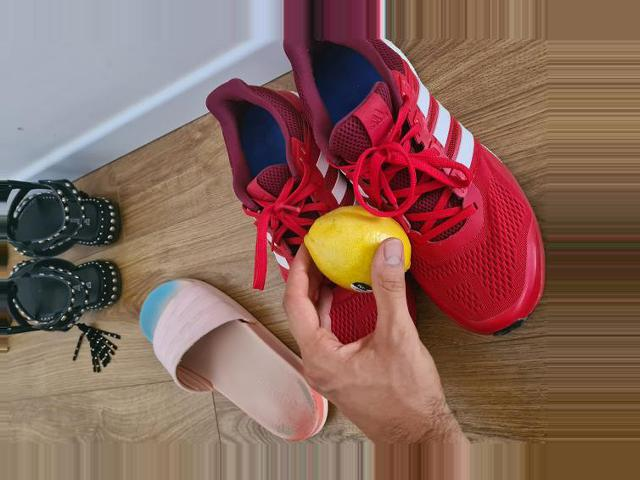lemon: (304, 204, 413, 285)
